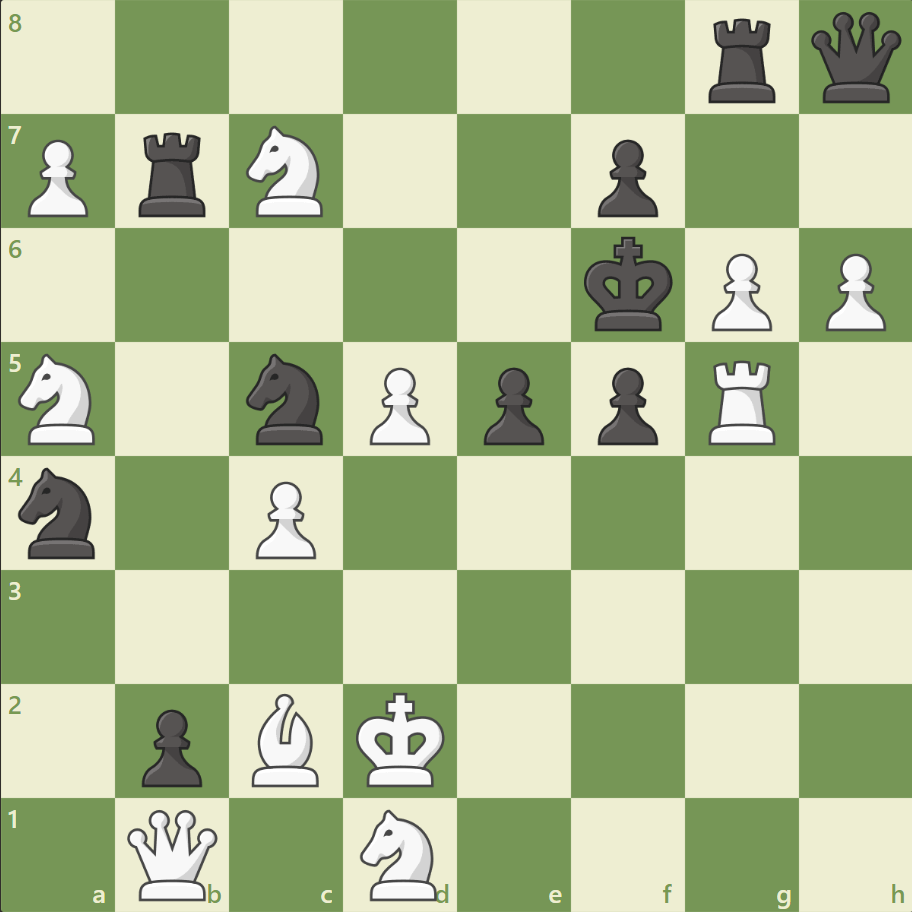B: (244, 687, 328, 790)
K: (351, 685, 451, 793)
N: (351, 802, 449, 904), (238, 121, 335, 223), (11, 348, 108, 450)
P: (20, 132, 95, 223), (701, 246, 776, 337), (247, 473, 322, 564), (815, 246, 889, 337), (361, 359, 435, 450)
Q: (124, 804, 223, 903)
R: (700, 352, 783, 449)
k: (579, 231, 679, 339)
n: (11, 461, 108, 564), (238, 348, 335, 450)
p: (474, 359, 549, 450), (133, 700, 208, 791), (588, 132, 662, 223), (588, 359, 662, 450)
q: (805, 9, 904, 108)
r: (700, 12, 783, 109), (133, 125, 215, 222)
